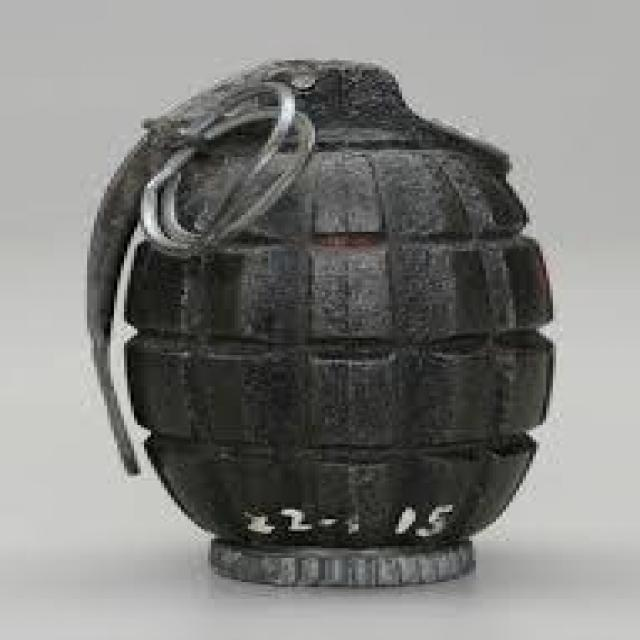grenade: (76, 40, 572, 586)
